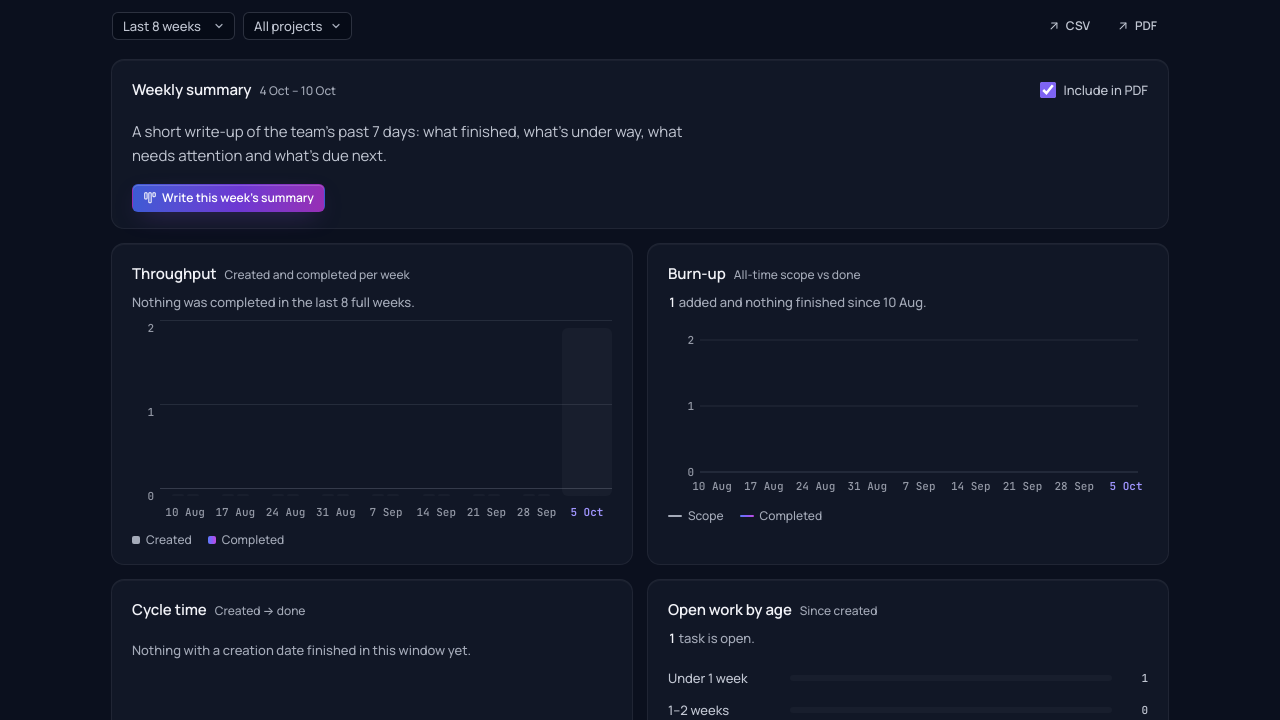
ReportsView › writes Kanbo's summary on vellum with provenance
The width and height of the screenshot is (1280, 720).
Step 1. Click the button "Write this week's summary" → (228, 198), box [132,184,325,212]
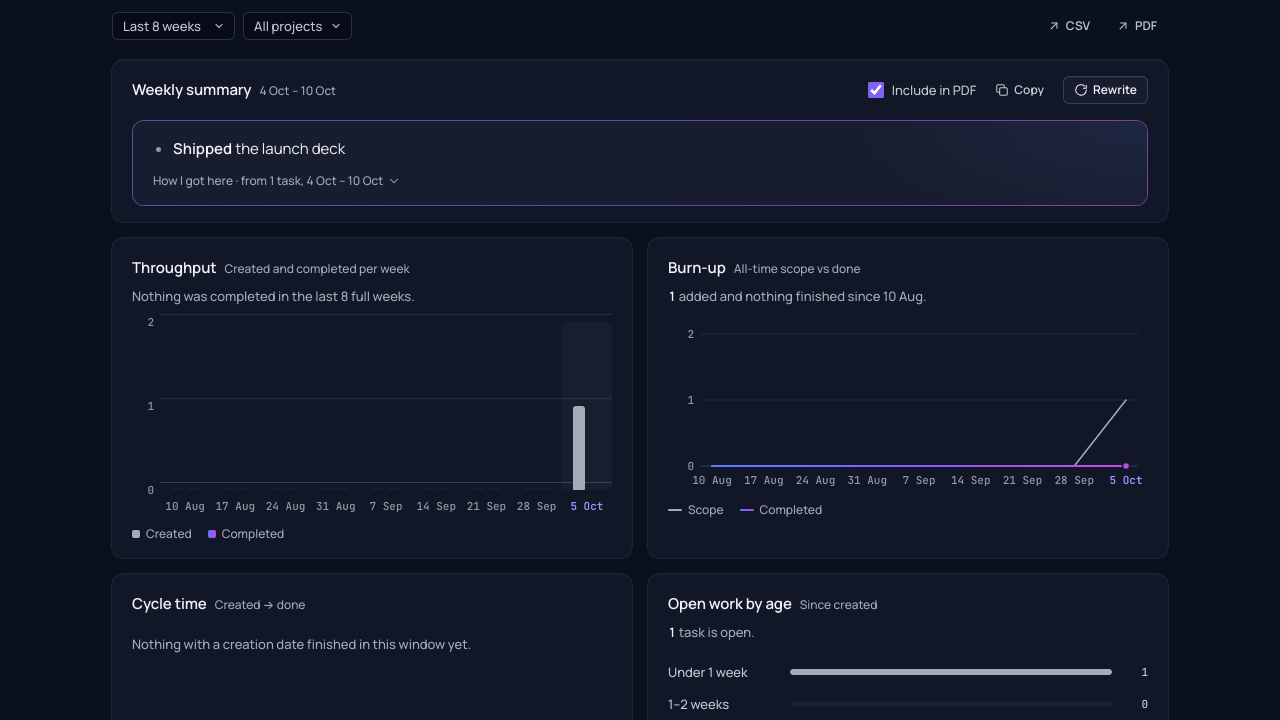
Check: the text "Shipped" is shown, box [173,138,232,159]
Check: the element with class "kvellum" is shown, box [132,120,1148,206]
Check: the button "How I got here · from 1 task, 4 Oct – 10 Oct" is shown, box [149,171,405,191]
